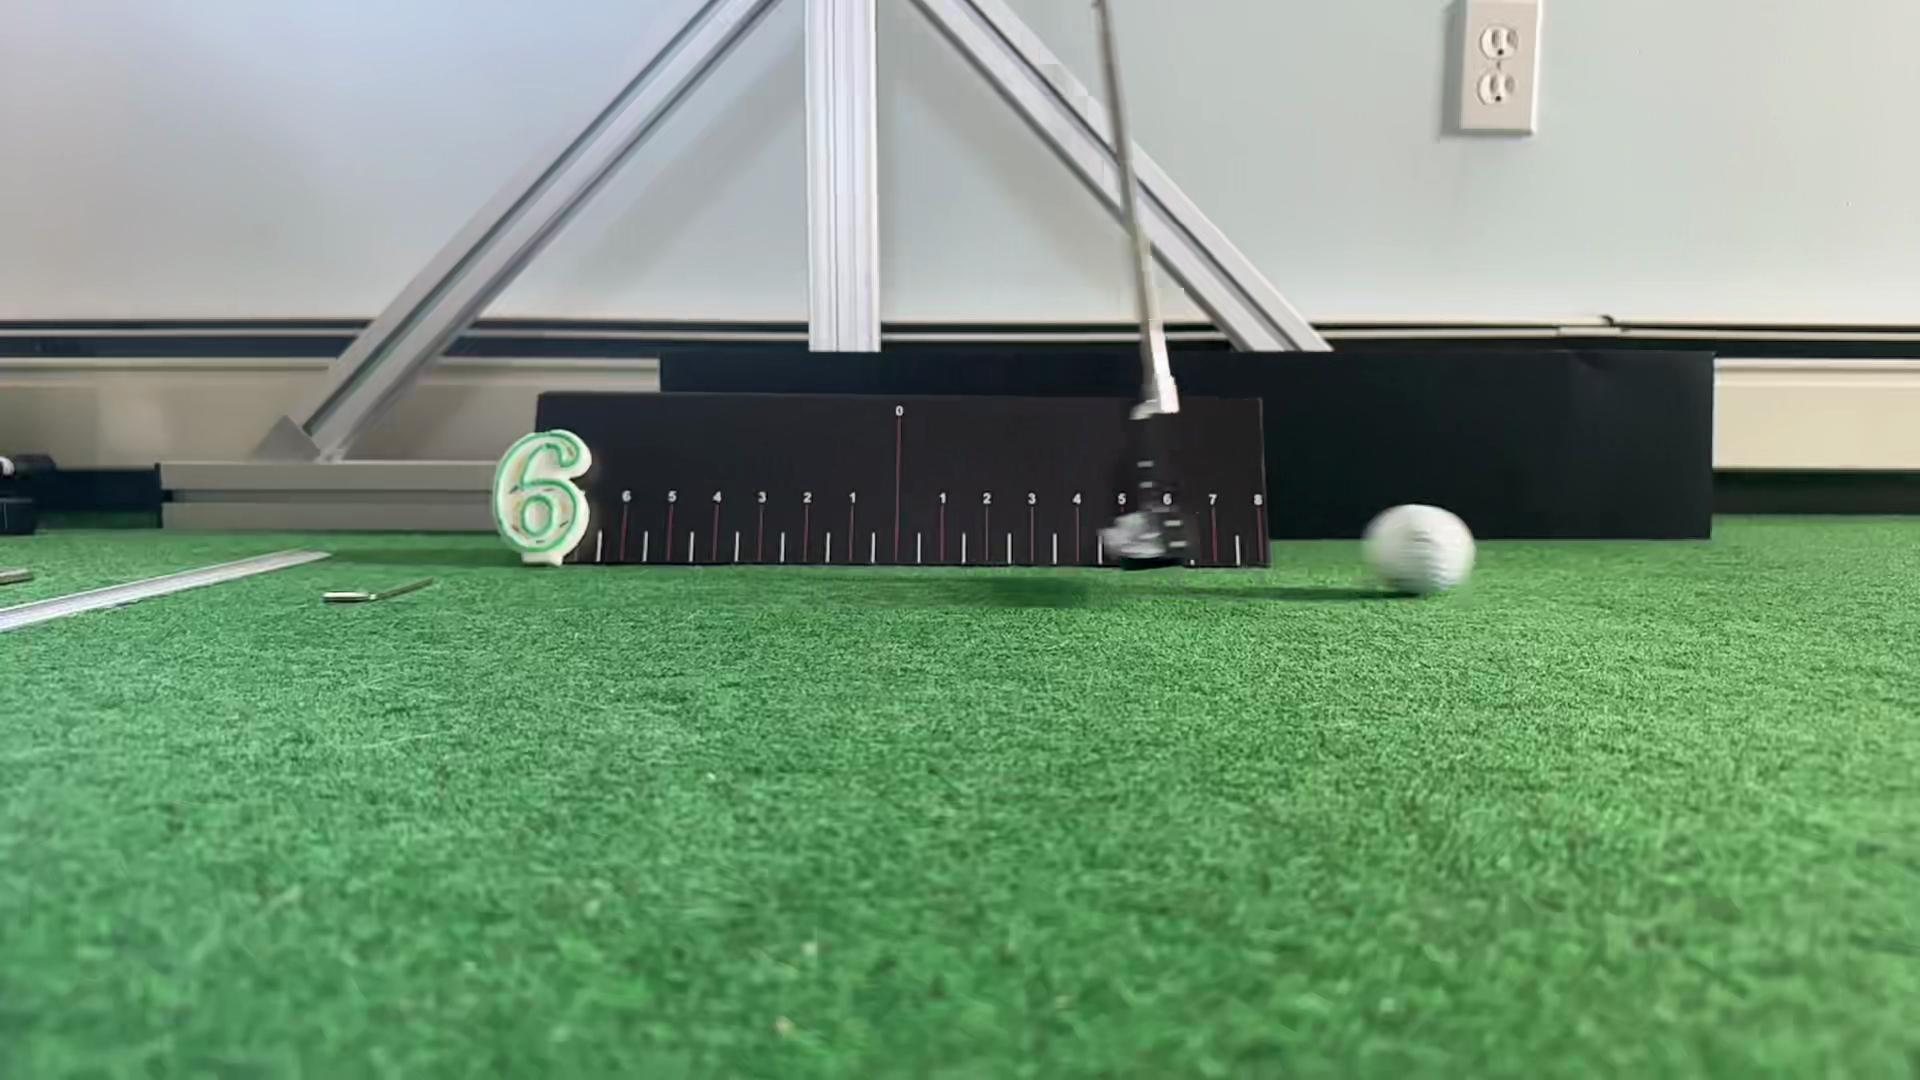golfball: (1367, 505, 1474, 598)
